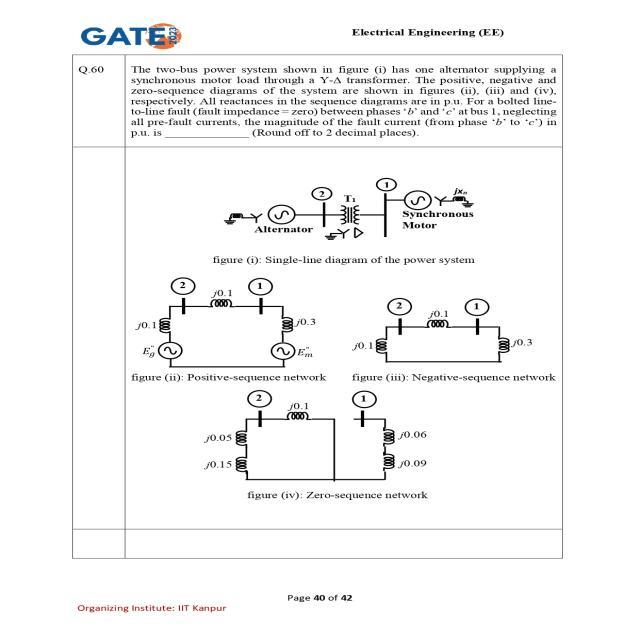Question_Answer_Block: (43, 46, 588, 574)
Question_Block: (43, 46, 588, 574)
Question_Paper_Area: (43, 46, 588, 574)
